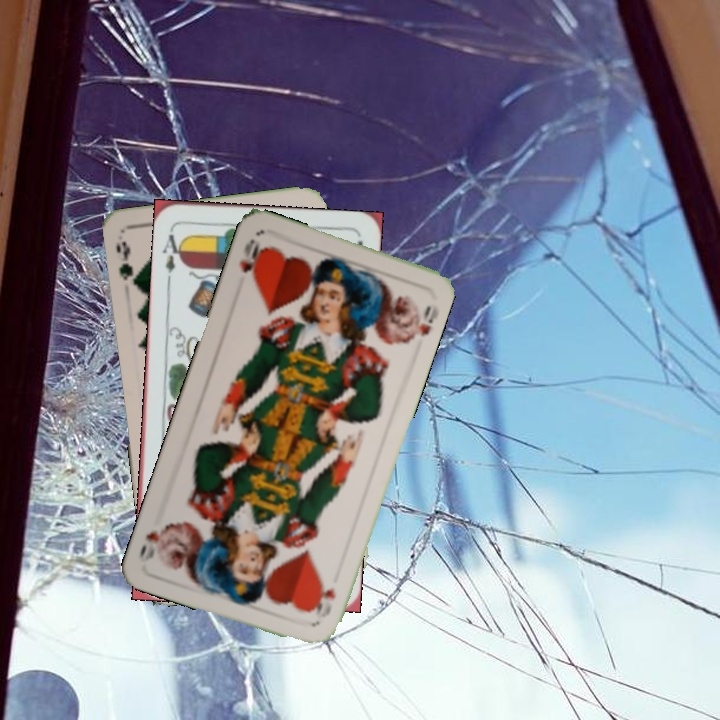EA: (159, 230, 187, 275)
G9: (112, 237, 141, 291)
HO: (235, 235, 267, 283), (310, 577, 338, 621)
